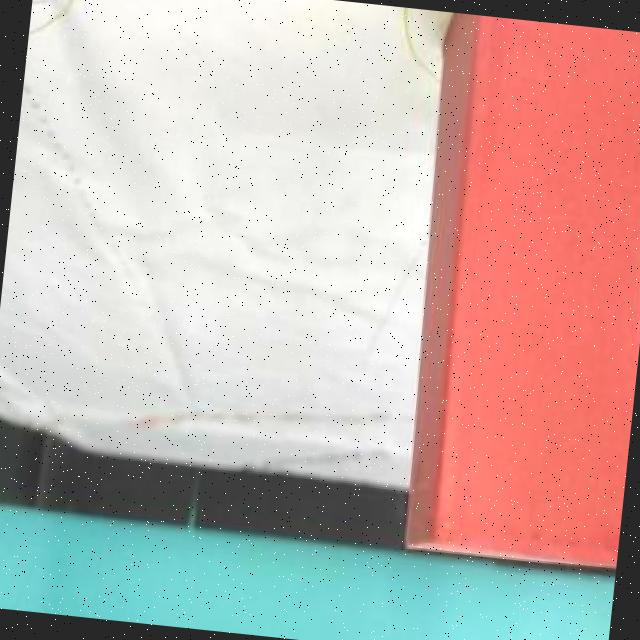redbox: (385, 11, 640, 574)
